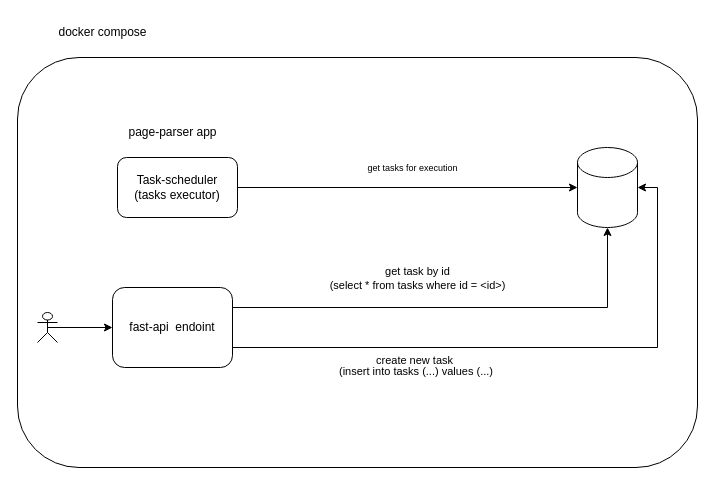
Some shapes in this 715 by 485 pixel diagram are drawn without their labels. Each missing label, with the centre of its shape:
"Actor" belongs at point 47,327.
"Postgres db" belongs at point 607,187.
